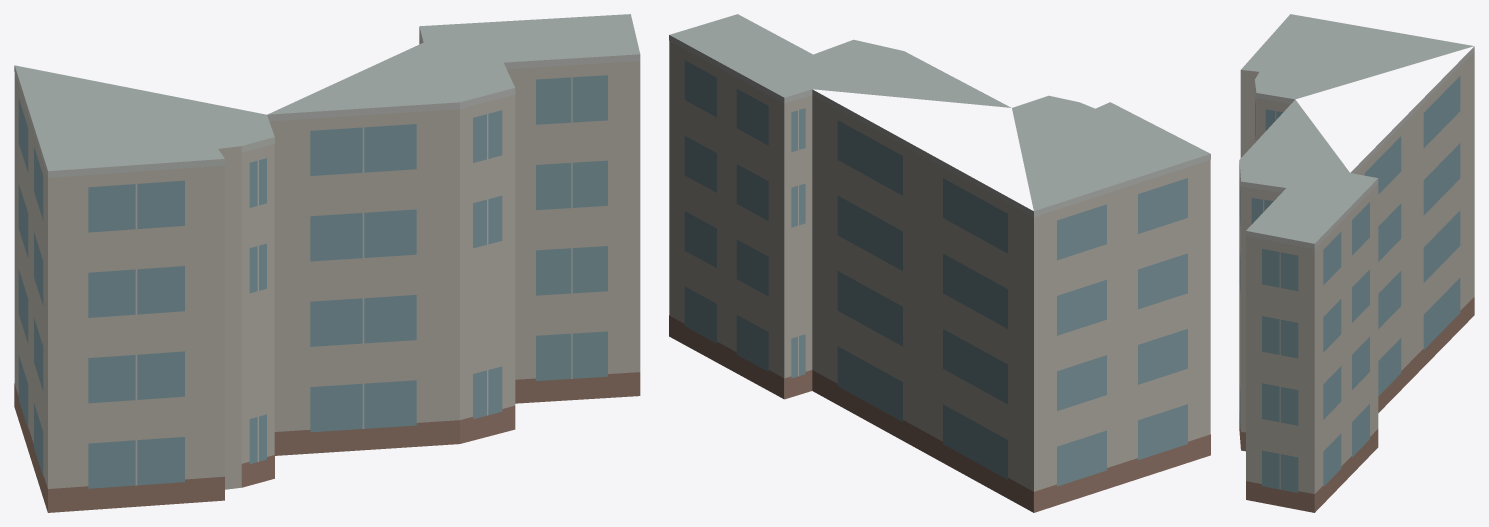
Rendered from survey-upis-32707415.glb.
3 views of the same model, side by side, from view 1: azimuth 30°, elevation 25°; view 2: azimuth 150°, elevation 25°; view 3: azimuth 270°, elevation 25° (orthographic). The views are drawn at different scales.
Visible parts, largest first — view 1: survey-upis-32707415.tmp; view 2: survey-upis-32707415.tmp; view 3: survey-upis-32707415.tmp.
Boxes of the visible parts, x1,y1,x2,y2 form: survey-upis-32707415.tmp: [14, 14, 640, 512]; survey-upis-32707415.tmp: [669, 14, 1210, 512]; survey-upis-32707415.tmp: [1239, 14, 1474, 512].
Size of the model in its own units: 22.64 by 12.35 by 9.79.
